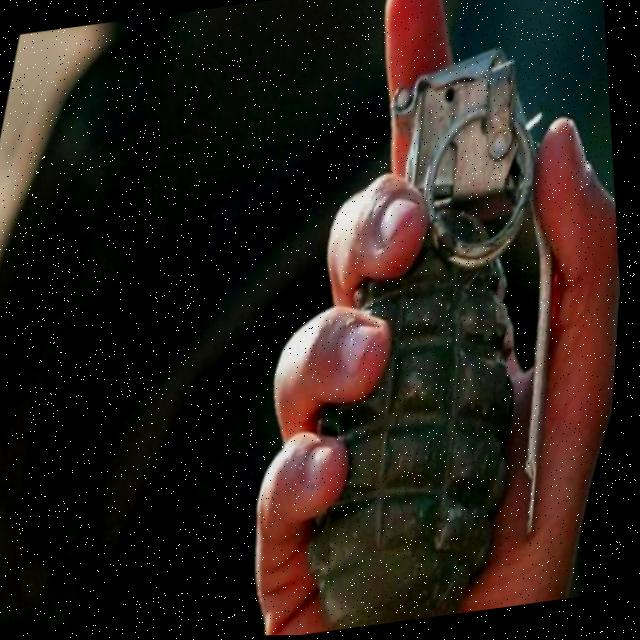grenade: (210, 42, 612, 637)
